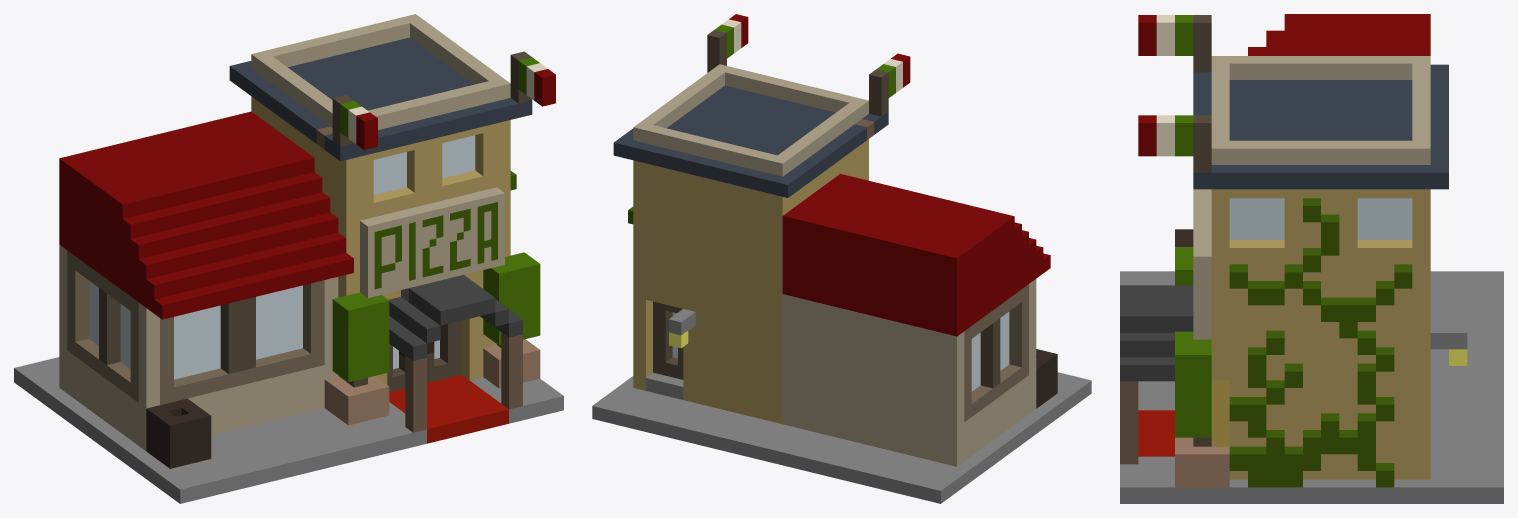
Rendered from fancy_italian_restaurant.obj.
The picture shows the model from 3 angles, left to right: view 1: azimuth 30°, elevation 25°; view 2: azimuth 150°, elevation 25°; view 3: azimuth 270°, elevation 25°; orthographic projection. The views are drawn at different scales.
Size of the model in its own units: 56 by 46 by 42.
1 material, 1 textured.
